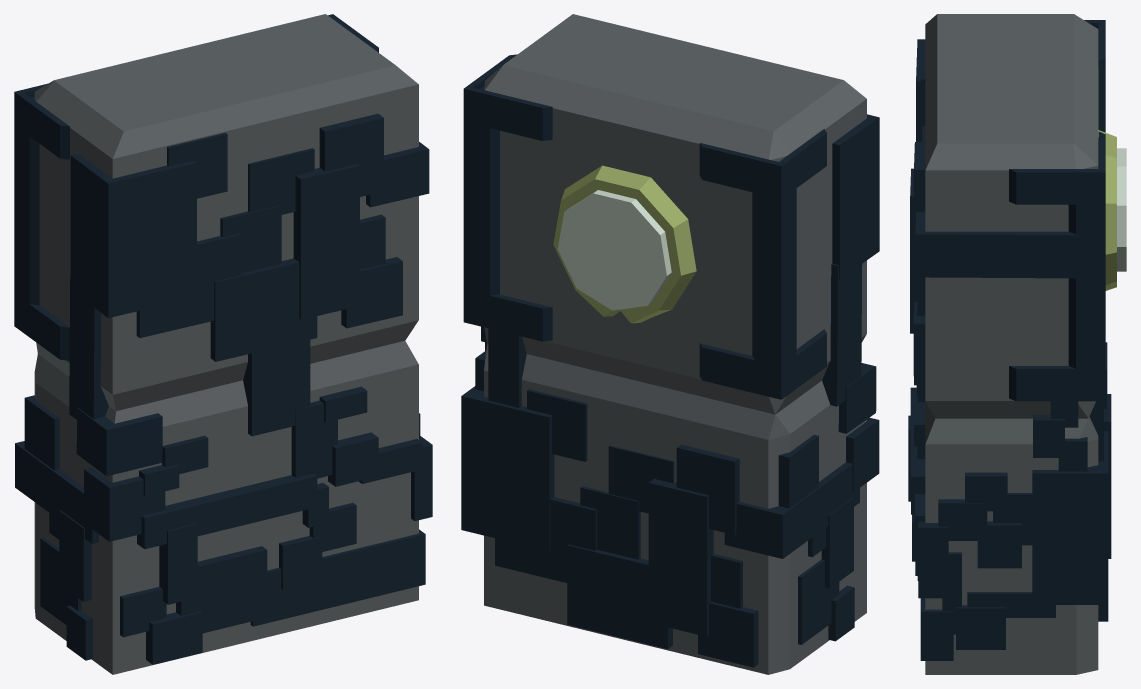
The model's file is True Boton Final.fbx.
The picture shows the model from 3 angles, left to right: view 1: azimuth 30°, elevation 25°; view 2: azimuth 150°, elevation 25°; view 3: azimuth 270°, elevation 25°; orthographic projection. The views are drawn at different scales.
Parts seen in each view (by area): view 1: Box002, Box053, Box004, Box056, Box055, Box033, Box032, Box038, Box065, Box066, Box054, Box017 (+26 smaller); view 2: Box002, Box004, Cylinder001, Box007, Box010, Box009, Box053, Box014, Box008, Box064, Box011, Box013 (+11 smaller); view 3: Box002, Box004, Box007, Box060, Cylinder001, Box028, Box027, Box029, Box030, Box033, Box026, Box025 (+17 smaller).
Part boxes in pixels (x1,y1,x2,y2): Box002: (34, 14, 418, 674); Box053: (70, 153, 196, 317); Box004: (14, 14, 378, 360); Box056: (293, 164, 359, 319); Box055: (210, 258, 317, 361); Box033: (250, 529, 425, 626); Box032: (137, 473, 317, 549); Box038: (176, 546, 267, 633); Box065: (243, 340, 310, 436); Box066: (76, 407, 162, 476); Box054: (136, 233, 241, 337); Box017: (84, 467, 165, 541); Box002: (484, 14, 866, 674); Box004: (463, 54, 826, 399); Cylinder001: (553, 165, 696, 323); Box007: (461, 386, 554, 551); Box010: (648, 479, 713, 636); Box009: (567, 544, 672, 648); Box053: (832, 114, 879, 279); Box014: (724, 462, 859, 558); Box008: (495, 497, 597, 582); Box064: (822, 263, 862, 406); Box011: (676, 444, 739, 534); Box013: (698, 602, 758, 667); Box002: (925, 14, 1098, 674); Box004: (1009, 20, 1105, 401); Box007: (1032, 431, 1108, 604); Box060: (915, 212, 1078, 278); Cylinder001: (1098, 130, 1126, 290); Box028: (918, 522, 948, 598); Box027: (956, 605, 1005, 649); Box029: (977, 521, 1021, 568); Box030: (938, 499, 987, 540); Box033: (920, 598, 953, 660); Box026: (967, 592, 1055, 617); Box025: (965, 472, 1007, 511).
Size of the model in its own units: 362 by 569 by 215.
